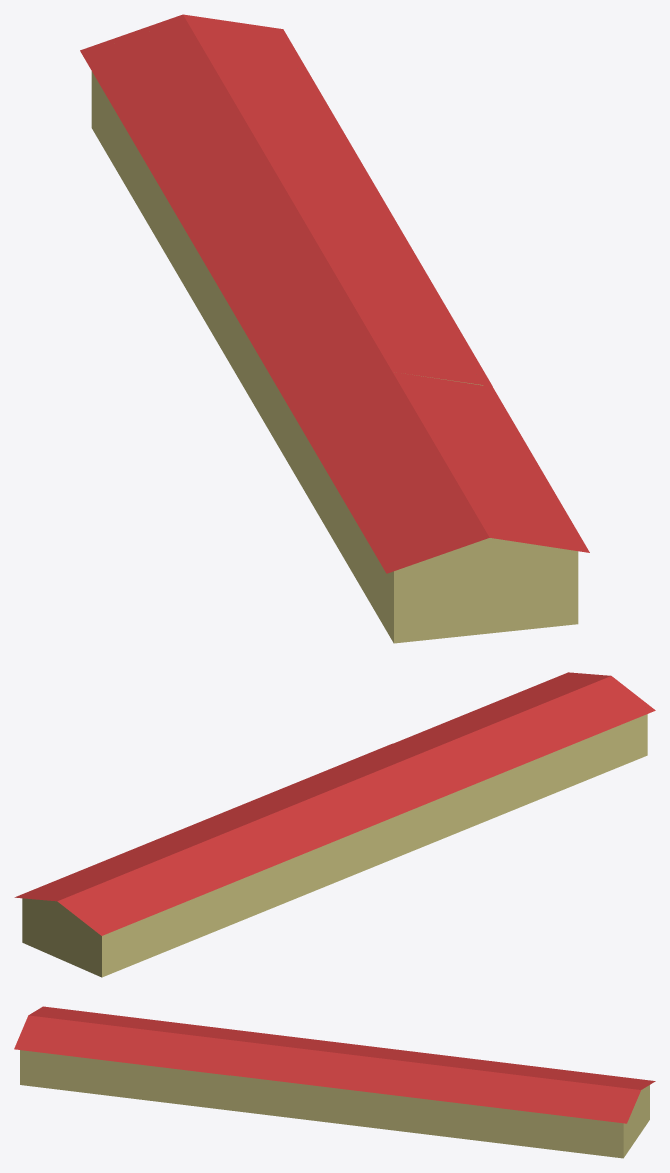
3 renders of one model, top to bottom at view 1: azimuth 30°, elevation 25°; view 2: azimuth 150°, elevation 25°; view 3: azimuth 270°, elevation 25°, orthographic. The views are drawn at different scales.
Bounding box in the file's own units: 41.99 × 97.14 × 8.35.
